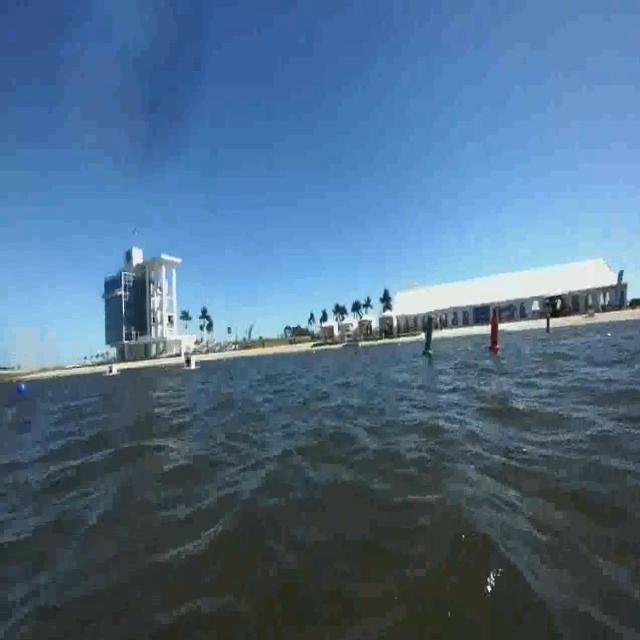blue-buoy: (13, 373, 31, 398)
green-column-buoy: (421, 314, 436, 358)
red-column-buoy: (488, 307, 502, 353)
